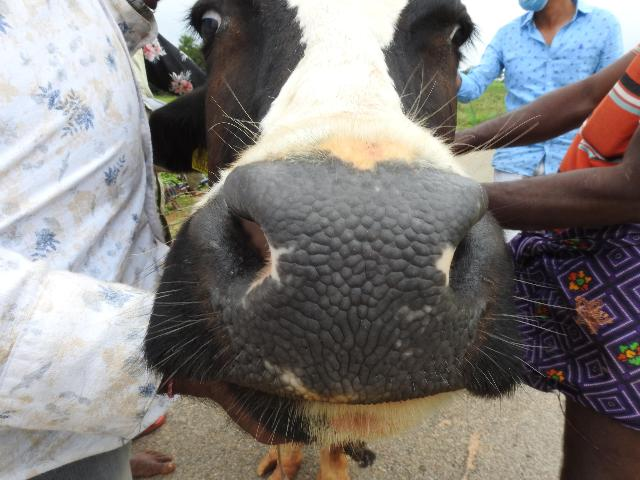Muzzle: (230, 172, 468, 396)
